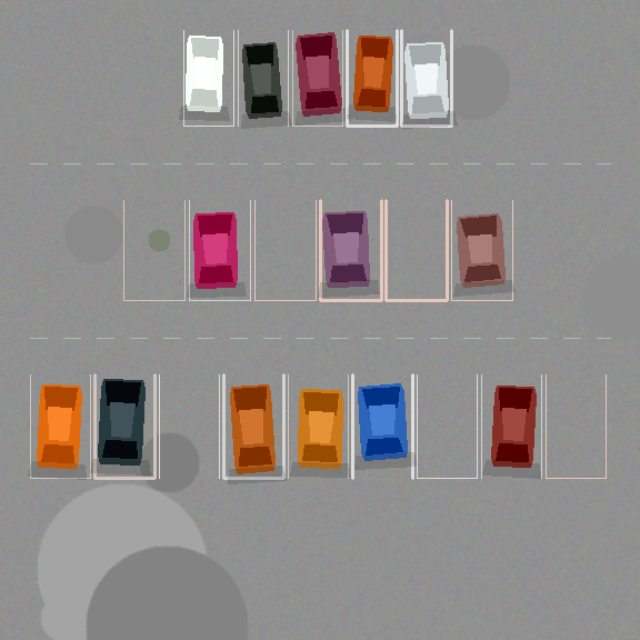space-empty: (159, 374, 219, 478), (417, 374, 477, 478), (546, 374, 606, 478), (254, 200, 316, 300), (123, 200, 184, 300), (386, 200, 447, 300)
space-occupied: (30, 374, 90, 478), (94, 374, 154, 478), (223, 374, 283, 478), (288, 374, 348, 478), (352, 374, 412, 478), (481, 374, 541, 478), (189, 200, 250, 300), (320, 200, 381, 300), (451, 200, 512, 300), (183, 30, 233, 126), (238, 30, 288, 126), (292, 30, 342, 126), (347, 30, 397, 126), (401, 30, 451, 126)
